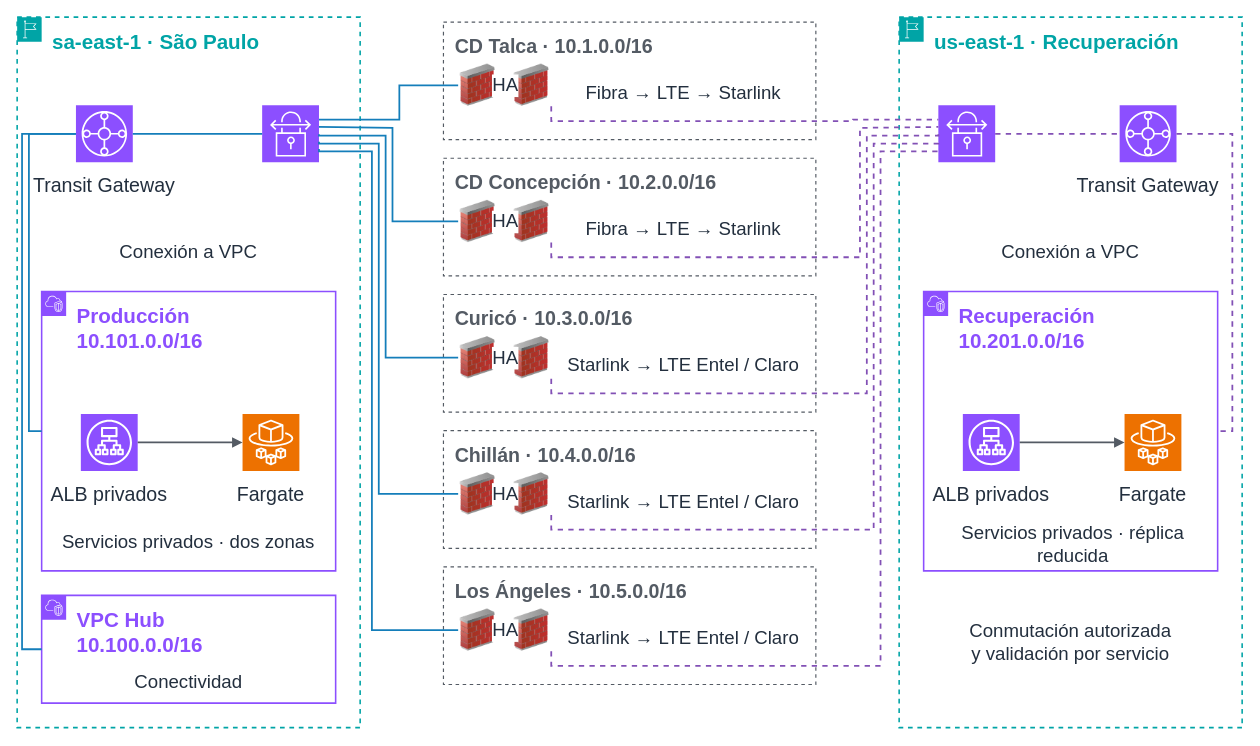
This 1260x746 diagram has some shape labels left out. Each missing label, with the centre of its shape:
"VPN de los sitios" belongs at (x=290, y=133).
"VPN preparada" belongs at (x=966, y=133).
